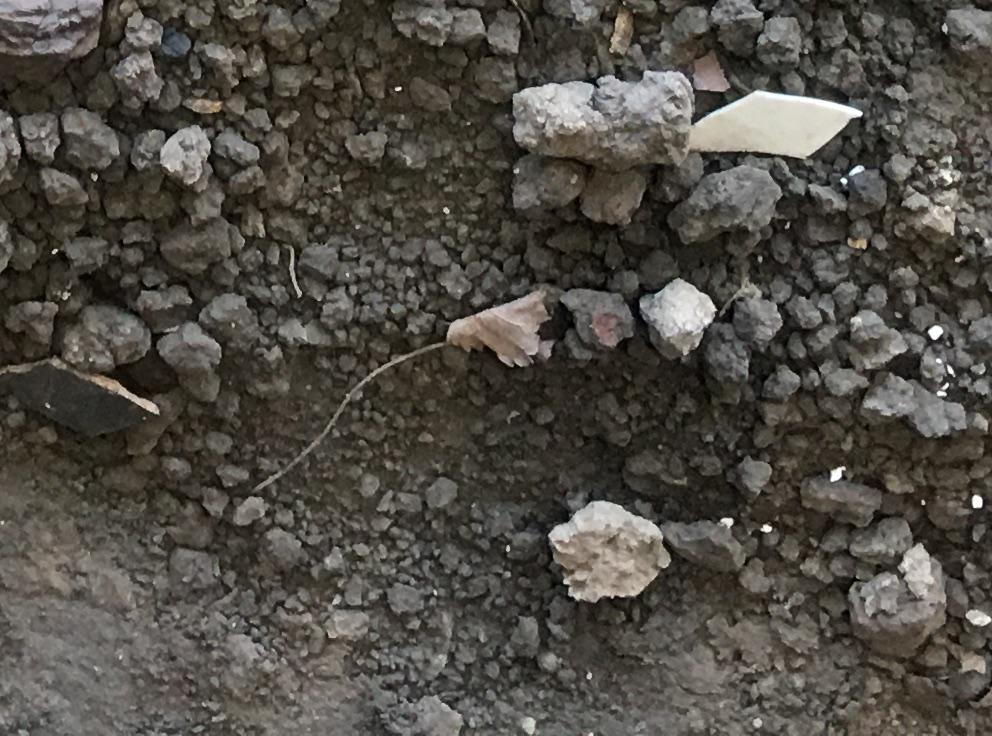block: (511, 72, 698, 166), (549, 500, 667, 607), (831, 555, 942, 658), (670, 169, 779, 242), (635, 272, 714, 360), (557, 285, 635, 355)
